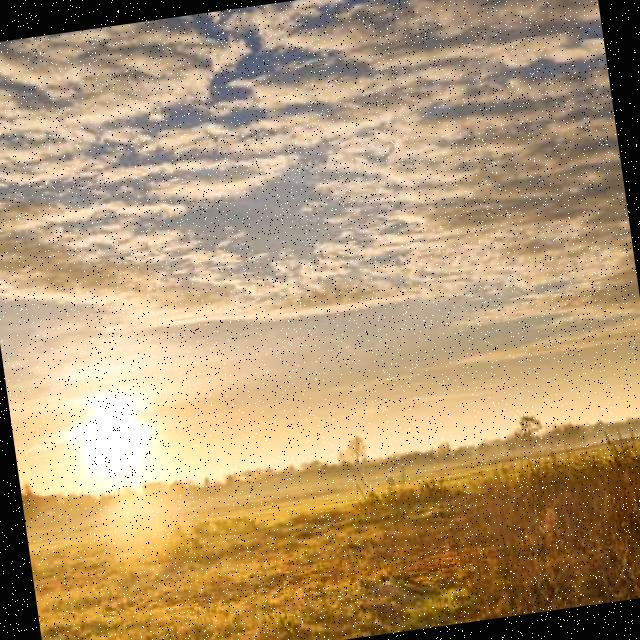Cc: (1, 1, 640, 428)
